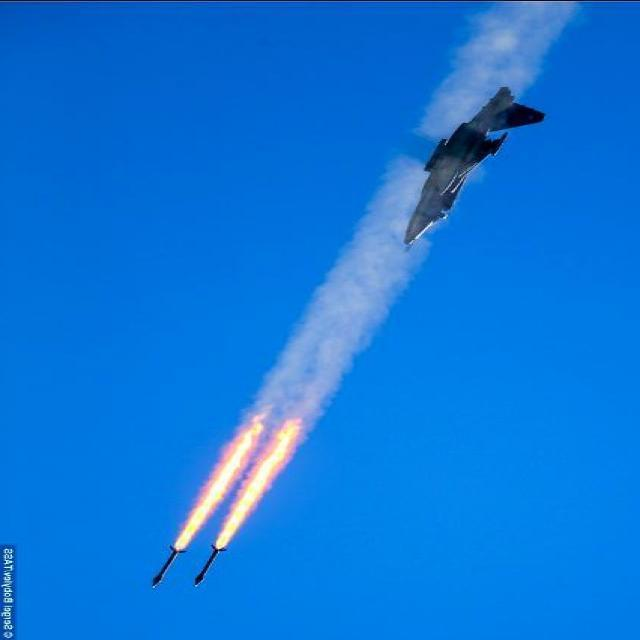missile: (190, 540, 229, 590), (145, 543, 187, 588)
